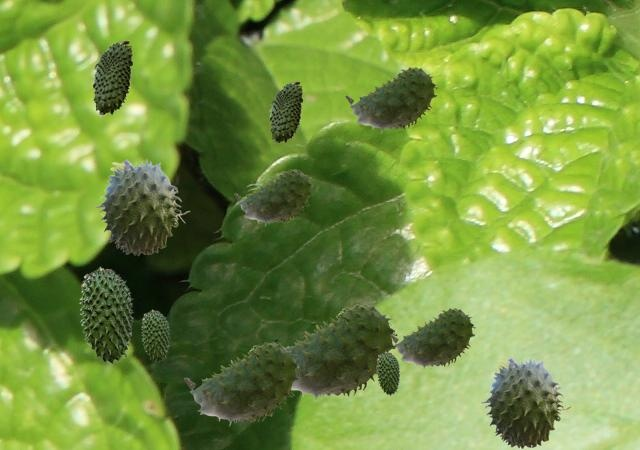guyabano: (285, 304, 396, 401), (184, 342, 299, 425), (94, 158, 189, 255), (480, 356, 571, 448), (345, 67, 436, 132), (79, 266, 133, 363), (390, 308, 474, 369), (234, 169, 312, 225), (92, 40, 132, 114), (269, 81, 302, 142), (141, 309, 169, 361), (376, 351, 399, 394)
